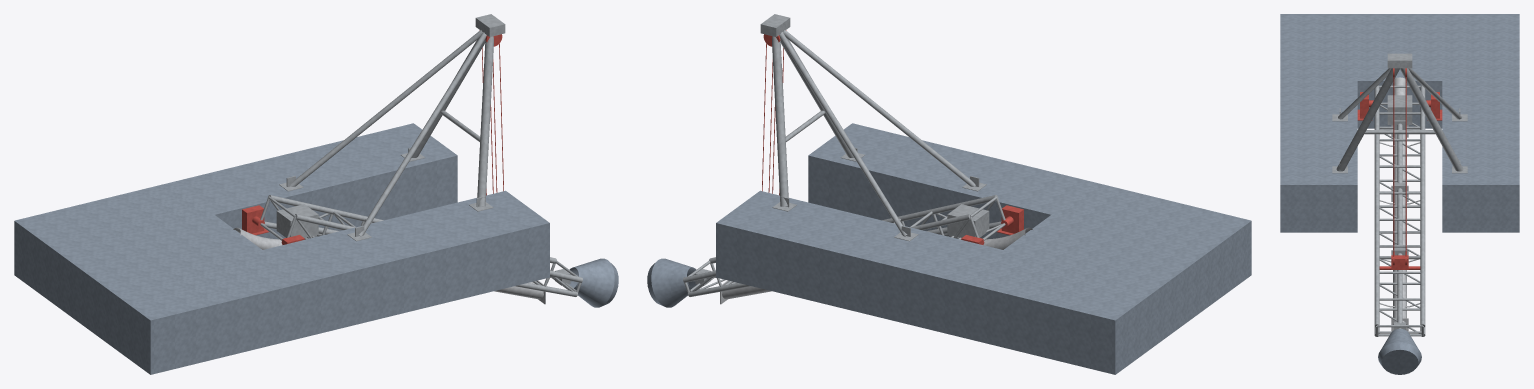
File: cutter-ladders-and-gantries.glb
The picture shows the model from 3 angles, left to right: view 1: azimuth 30°, elevation 25°; view 2: azimuth 150°, elevation 25°; view 3: azimuth 270°, elevation 25°; orthographic projection. The views are drawn at different scales.
Visible parts, largest first — view 1: DredgerHull(context), LadderGantry, LadderFrame, CutterHead(context), CutterShaftHousing, SuctionPipe, Trunnions, Sheaves&HoistWires; view 2: DredgerHull(context), LadderGantry, LadderFrame, CutterHead(context), CutterShaftHousing, SuctionPipe, Trunnions, Sheaves&HoistWires; view 3: DredgerHull(context), LadderFrame, LadderGantry, CutterShaftHousing, SuctionPipe, CutterHead(context), Sheaves&HoistWires, Trunnions.
Part boxes in pixels (box(x1,y1,x2,y2)): DredgerHull(context): box(14, 123, 549, 374); LadderGantry: box(279, 14, 505, 241); LadderFrame: box(260, 195, 582, 296); CutterHead(context): box(569, 258, 618, 307); CutterShaftHousing: box(276, 204, 576, 291); SuctionPipe: box(233, 227, 545, 304); Trunnions: box(242, 205, 304, 244); Sheaves&HoistWires: box(479, 30, 503, 195); DredgerHull(context): box(716, 123, 1251, 374); LadderGantry: box(760, 14, 986, 241); LadderFrame: box(683, 195, 1005, 296); CutterHead(context): box(647, 258, 696, 307); CutterShaftHousing: box(689, 204, 989, 291); SuctionPipe: box(720, 227, 1032, 304); Trunnions: box(961, 205, 1023, 244); Sheaves&HoistWires: box(762, 30, 786, 195); DredgerHull(context): box(1280, 14, 1519, 232); LadderFrame: box(1374, 85, 1425, 336); LadderGantry: box(1332, 53, 1467, 173); CutterShaftHousing: box(1378, 95, 1421, 333); SuctionPipe: box(1379, 77, 1420, 331); CutterHead(context): box(1378, 329, 1421, 374); Sheaves&HoistWires: box(1379, 68, 1420, 269); Trunnions: box(1357, 92, 1442, 120).
Bounding box in the file's own units: 30.56 × 17.05 × 13.6.
4 materials, 4 textured.
